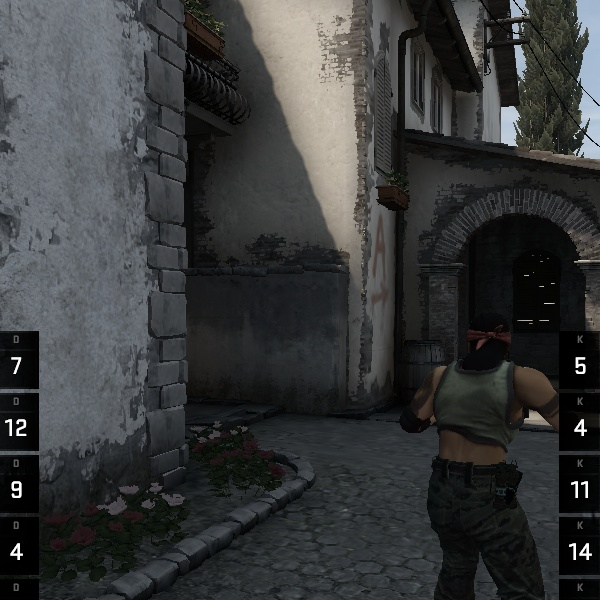t_body: (387, 302, 578, 586)
t_head: (459, 311, 525, 371)
